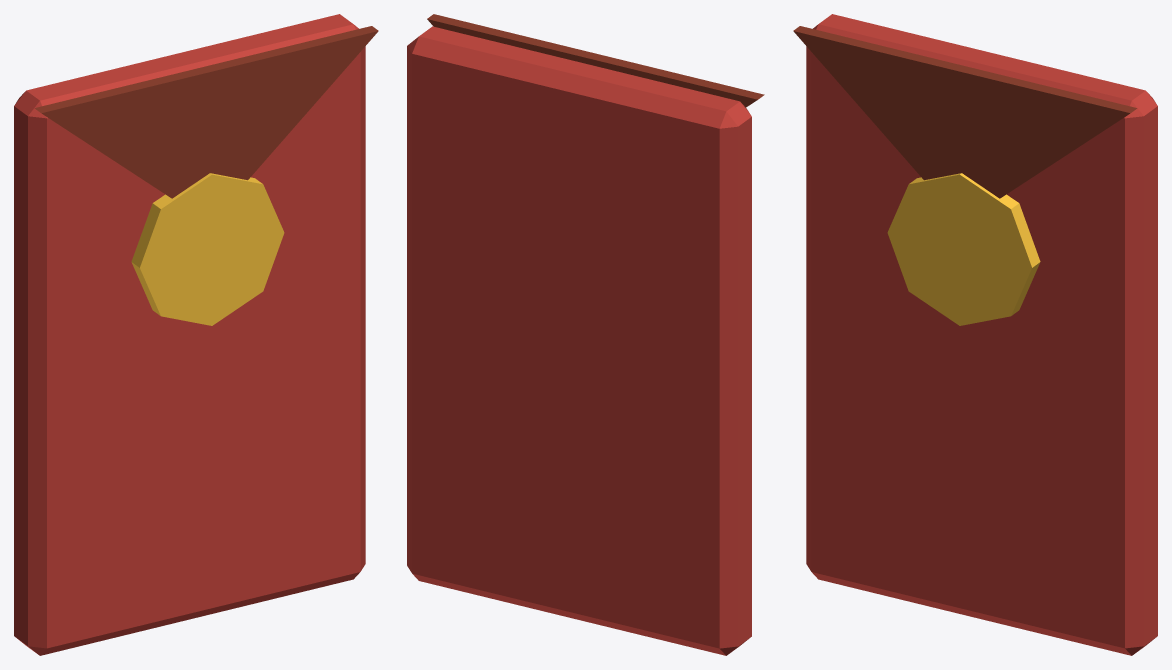
The model's file is RedEnvelope.fbx.
The picture shows the model from 3 angles, left to right: view 1: azimuth 30°, elevation 25°; view 2: azimuth 150°, elevation 25°; view 3: azimuth 330°, elevation 25°; orthographic projection.
Visible parts, largest first — view 1: RedEnvelope; view 2: RedEnvelope; view 3: RedEnvelope.
Part boxes in pixels (left/top/right/bottom): RedEnvelope: left=14, top=14, right=378, bottom=655; RedEnvelope: left=407, top=14, right=764, bottom=655; RedEnvelope: left=793, top=14, right=1157, bottom=655.
Size of the model in its own units: 1.4 by 2.2 by 0.26.
1 material, 1 textured.
